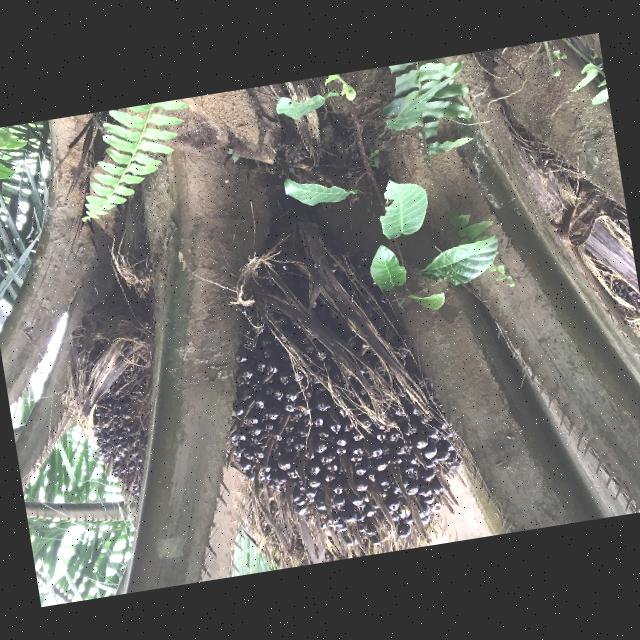Unripe: (223, 249, 461, 542)
